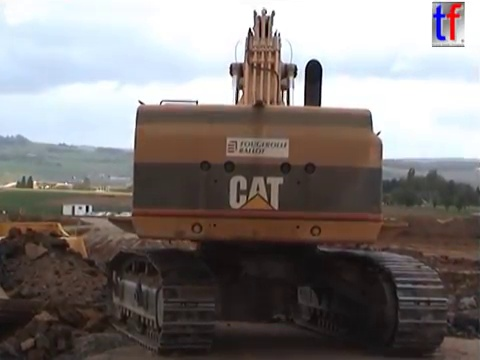excavator: (101, 5, 453, 360)
truck: (1, 218, 119, 360)
